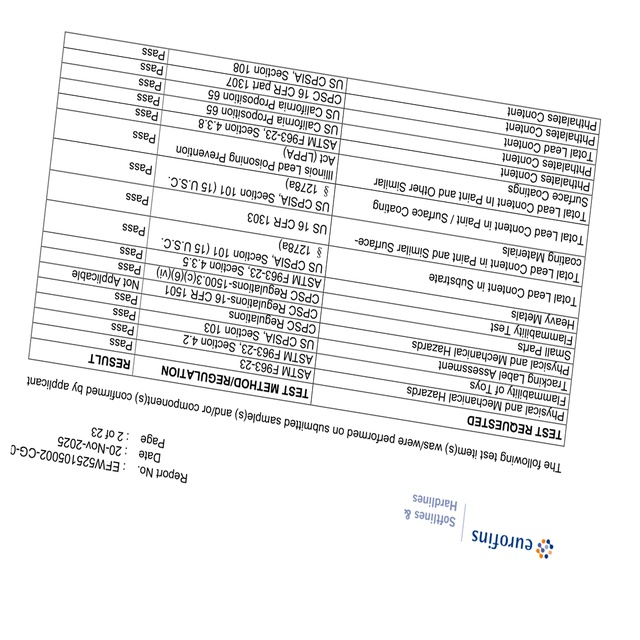eurofins: (469, 522, 559, 567)
